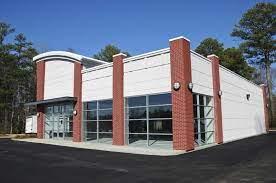Building House: (24, 46, 268, 144)
